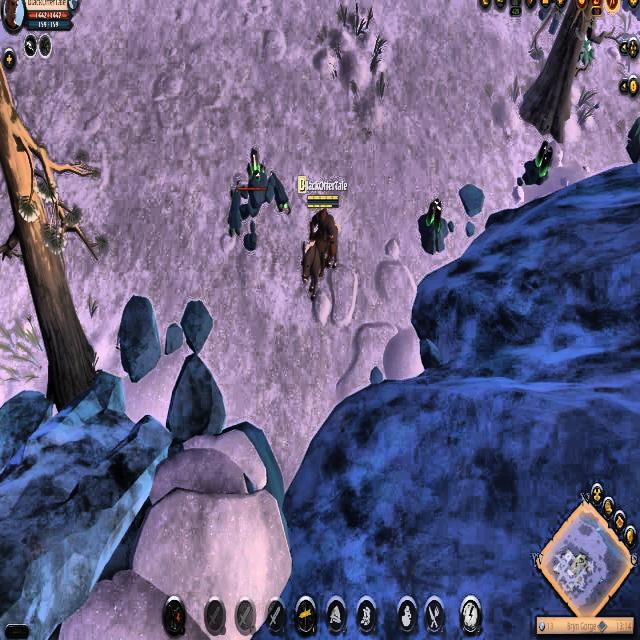tinore: (419, 195, 446, 248), (528, 136, 554, 187)
